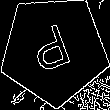P_S: (28, 20, 80, 81)
